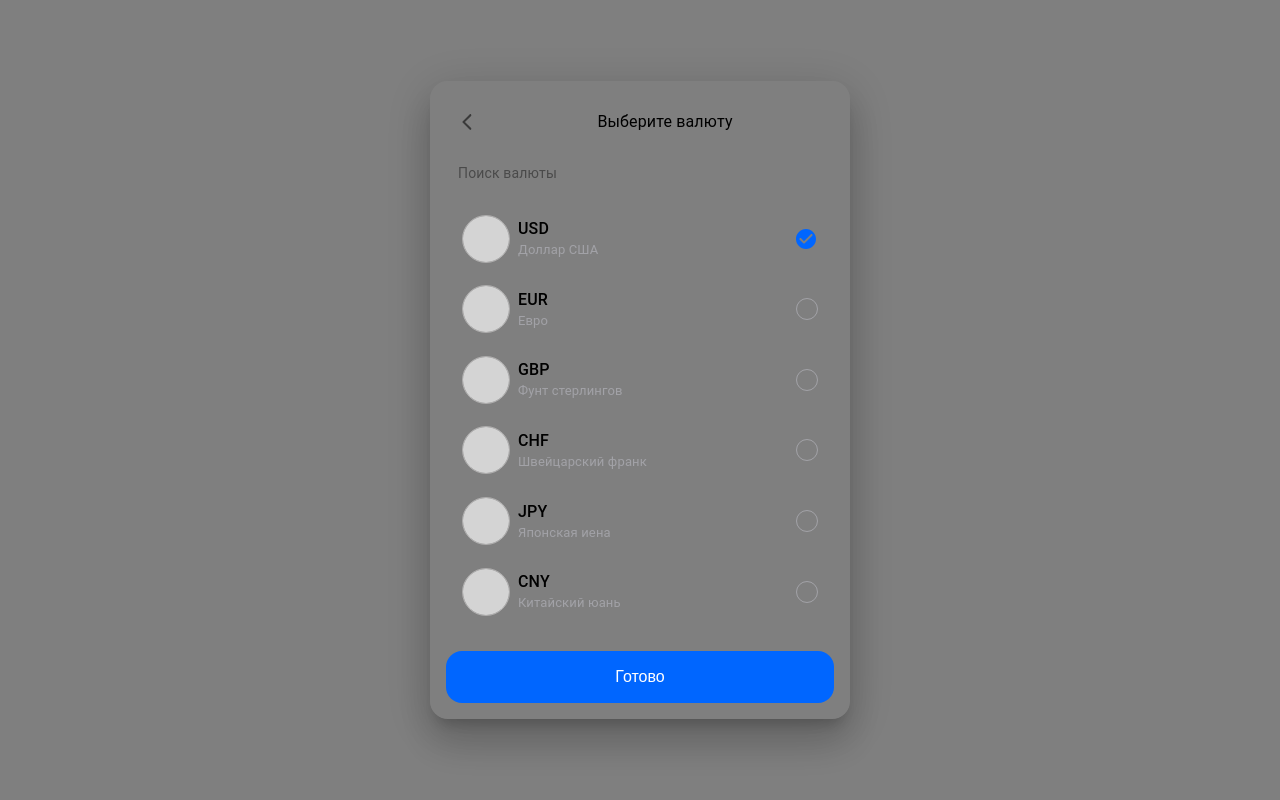
Test: CurrencySelectModal › поиск › фильтрует по коду валюты и не зависит от регистра
Step 1. Type "jp" into the field with placeholder "Поиск валюты" → (640, 173), box [446,151,834,195]
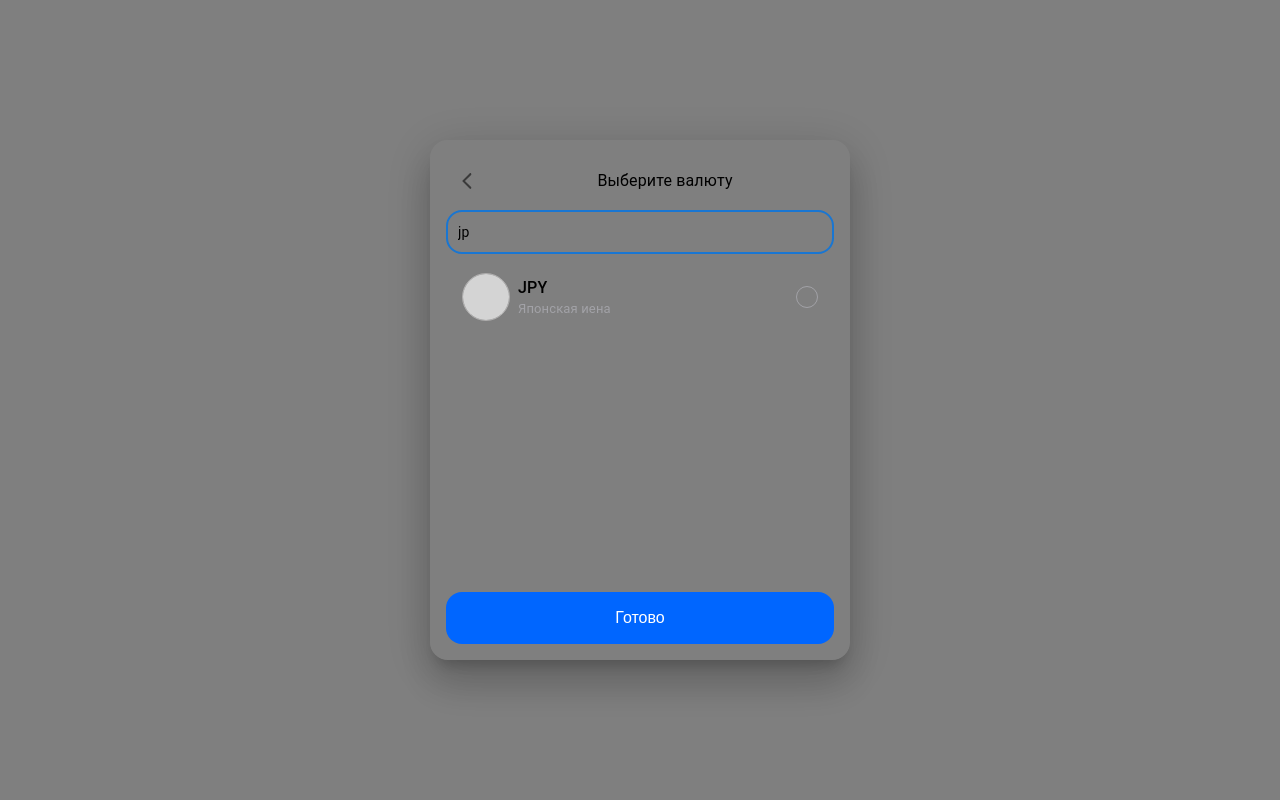
Expected: the button "USD" is gone
Expected: the button "EUR" is gone
Expected: the button "GBP" is gone
